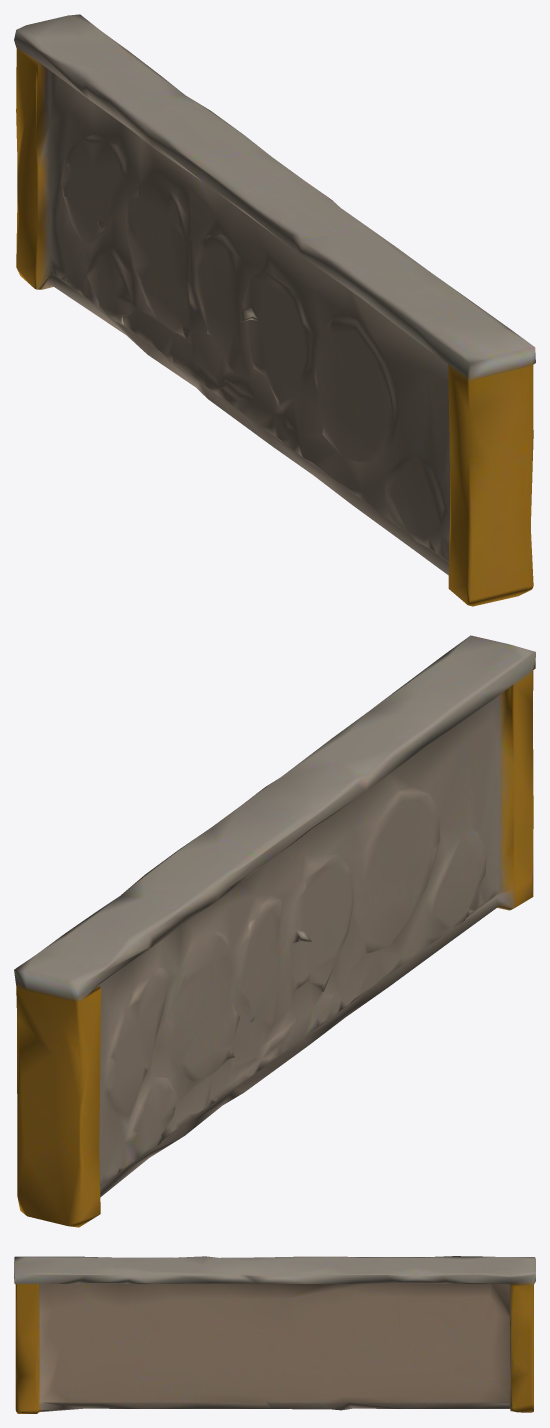
The model's file is wall.glb.
3 views of the same model, one above another, from view 1: azimuth 30°, elevation 25°; view 2: azimuth 150°, elevation 25°; view 3: azimuth 270°, elevation 25° (orthographic). The views are drawn at different scales.
Visible parts, largest first — view 1: tripo_node_22980d29-122f-4e57-9212-42f5fc7ea9d1; view 2: tripo_node_22980d29-122f-4e57-9212-42f5fc7ea9d1; view 3: tripo_node_22980d29-122f-4e57-9212-42f5fc7ea9d1.
Part boxes in pixels (x1,y1,x2,y2): tripo_node_22980d29-122f-4e57-9212-42f5fc7ea9d1: [14, 14, 535, 606]; tripo_node_22980d29-122f-4e57-9212-42f5fc7ea9d1: [14, 635, 535, 1227]; tripo_node_22980d29-122f-4e57-9212-42f5fc7ea9d1: [14, 1256, 535, 1413].
Bounding box in the file's own units: 0.0876 × 0.2985 × 1.
Materials: 1 (1 with a texture image).
